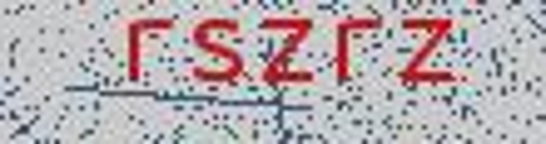r: (115, 7, 181, 94), (325, 13, 381, 96)
s: (188, 12, 246, 88)
z: (392, 13, 464, 98), (257, 10, 322, 97)
